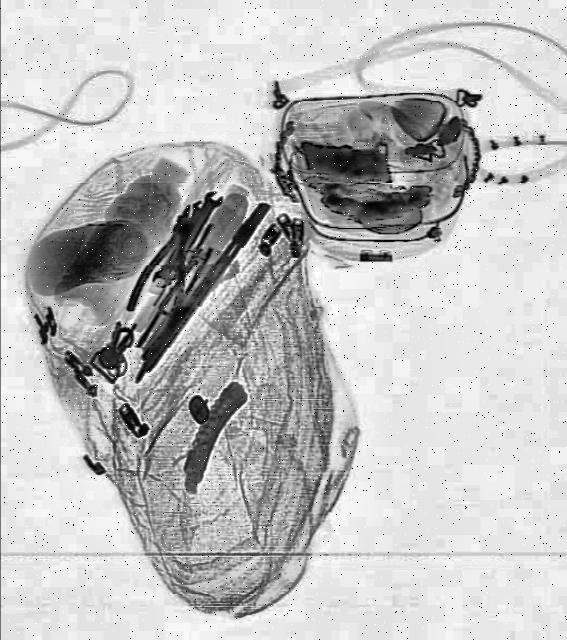Pliers: (125, 200, 215, 332)
Wrench: (152, 188, 228, 296)
